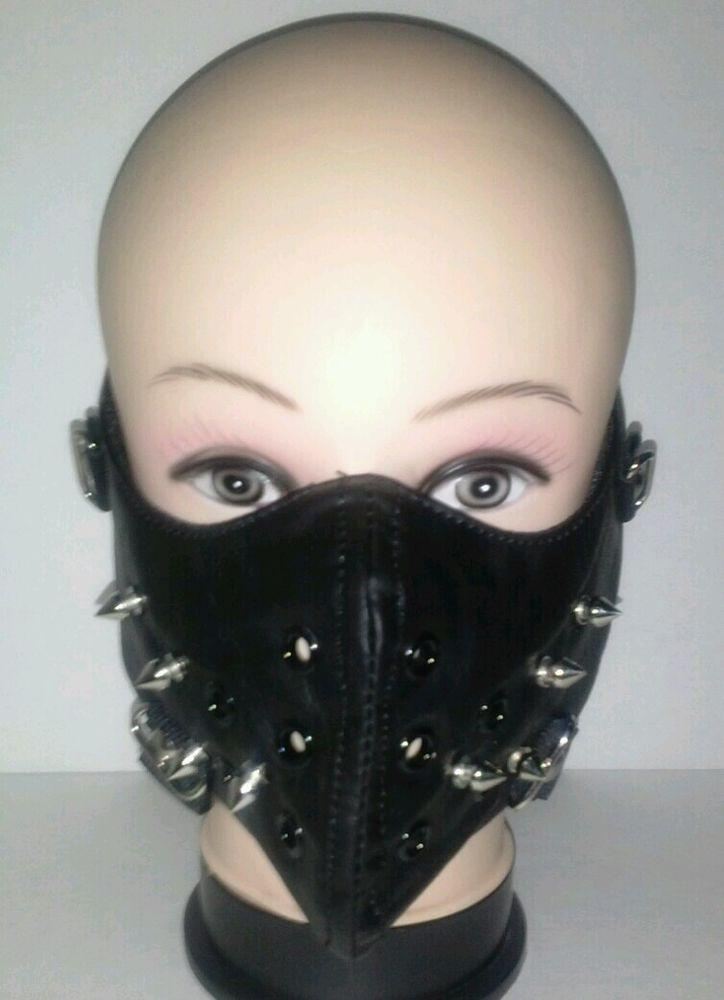Wearing Mask: (37, 18, 722, 1000)
